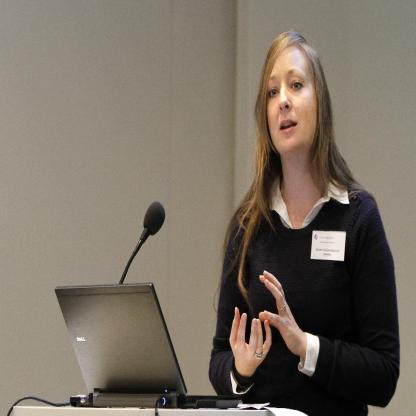board: (54, 284, 242, 407)
